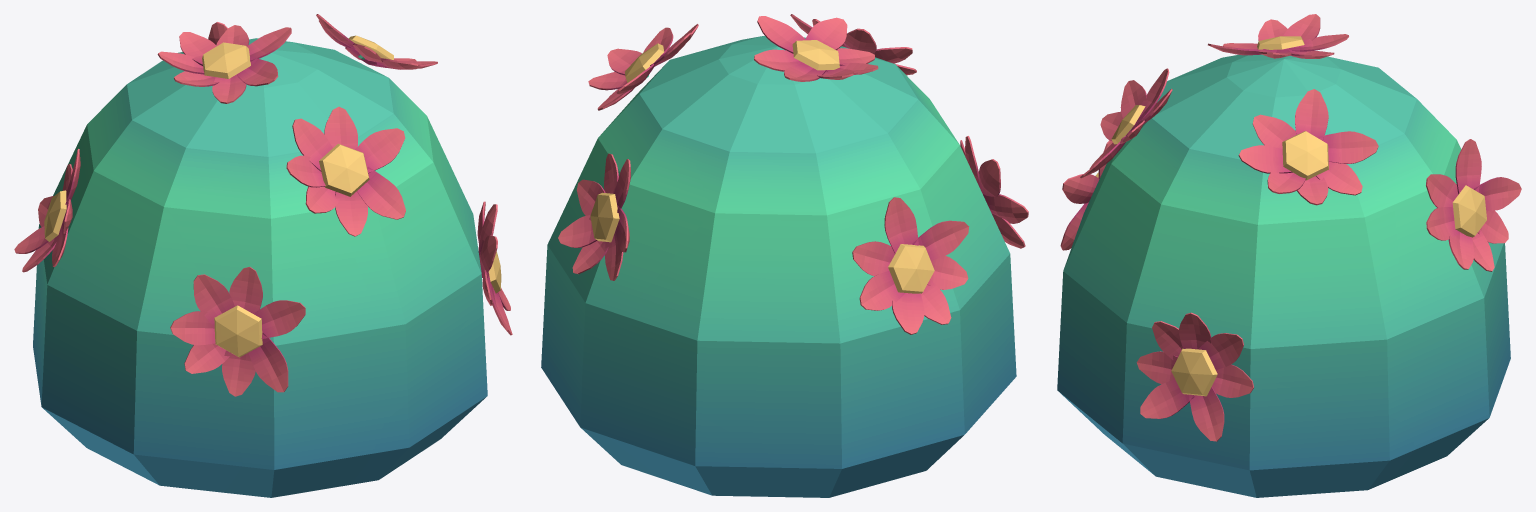
The model's file is bush001.obj.
3 renders of one model, left to right at view 1: azimuth 30°, elevation 25°; view 2: azimuth 150°, elevation 25°; view 3: azimuth 270°, elevation 25°, orthographic. The views are drawn at different scales.
Parts seen in each view (by area): view 1: bush.001; view 2: bush.001; view 3: bush.001.
Part boxes in pixels (box(x1,y1,x2,y2)): bush.001: box(14, 14, 512, 497); bush.001: box(541, 14, 1028, 497); bush.001: box(1057, 14, 1521, 497).
Bounding box in the file's own units: 3.58 × 3.46 × 3.52.
1 material, 1 textured.
